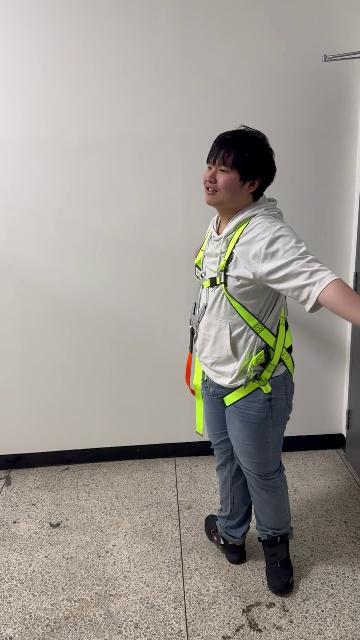helmet_not_worn: (201, 130, 277, 207)
shoe_worn: (258, 533, 294, 594), (204, 514, 245, 564)
vest_worn: (188, 217, 295, 413)
